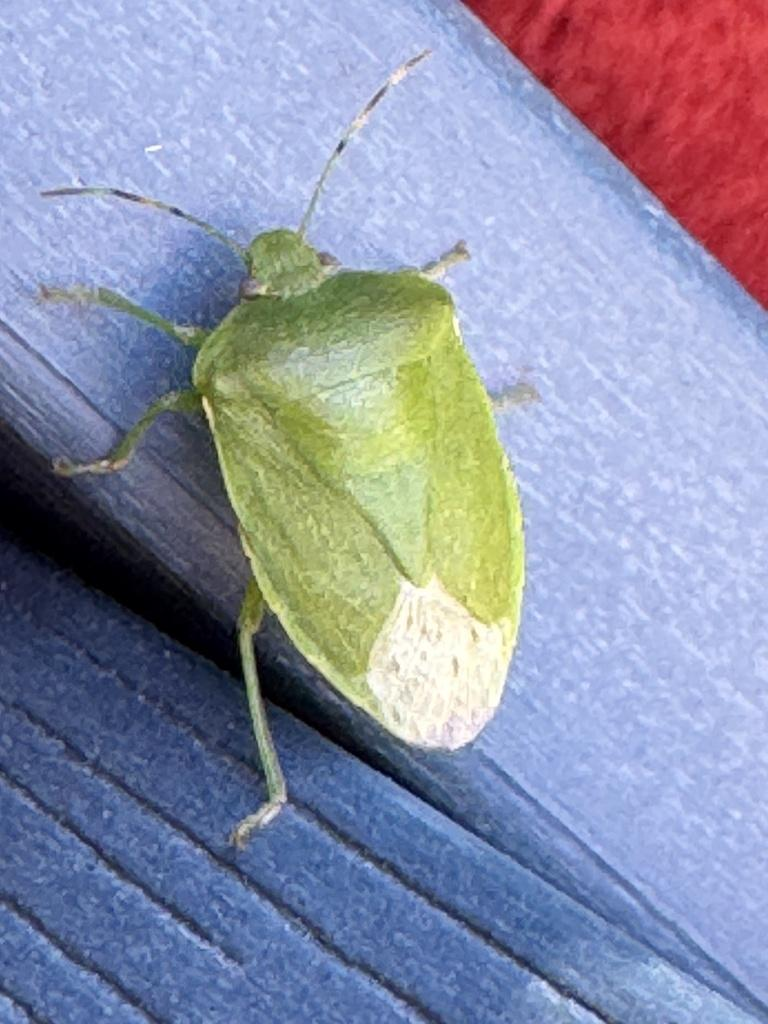stink_bugs: (0, 10, 768, 920)
